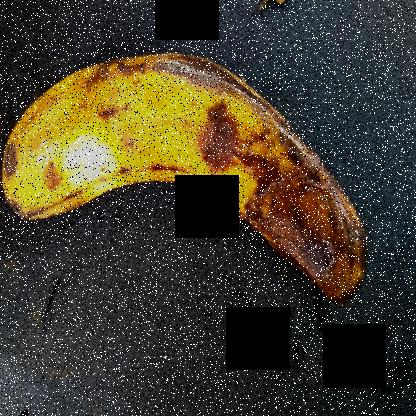rotten: (0, 24, 391, 329)
